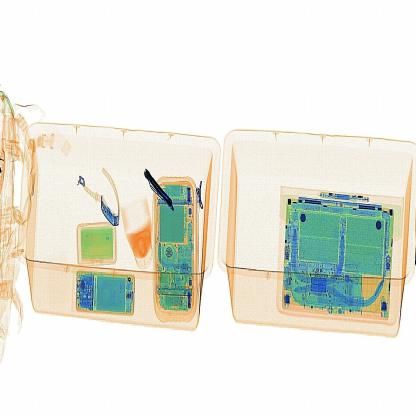knife: (141, 164, 173, 209)
